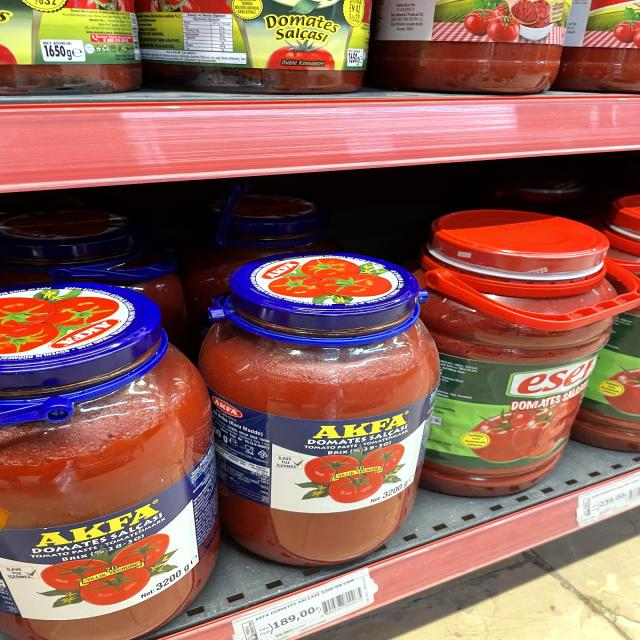tomato paste: (0, 297, 204, 640), (210, 248, 422, 560), (418, 217, 598, 493)
